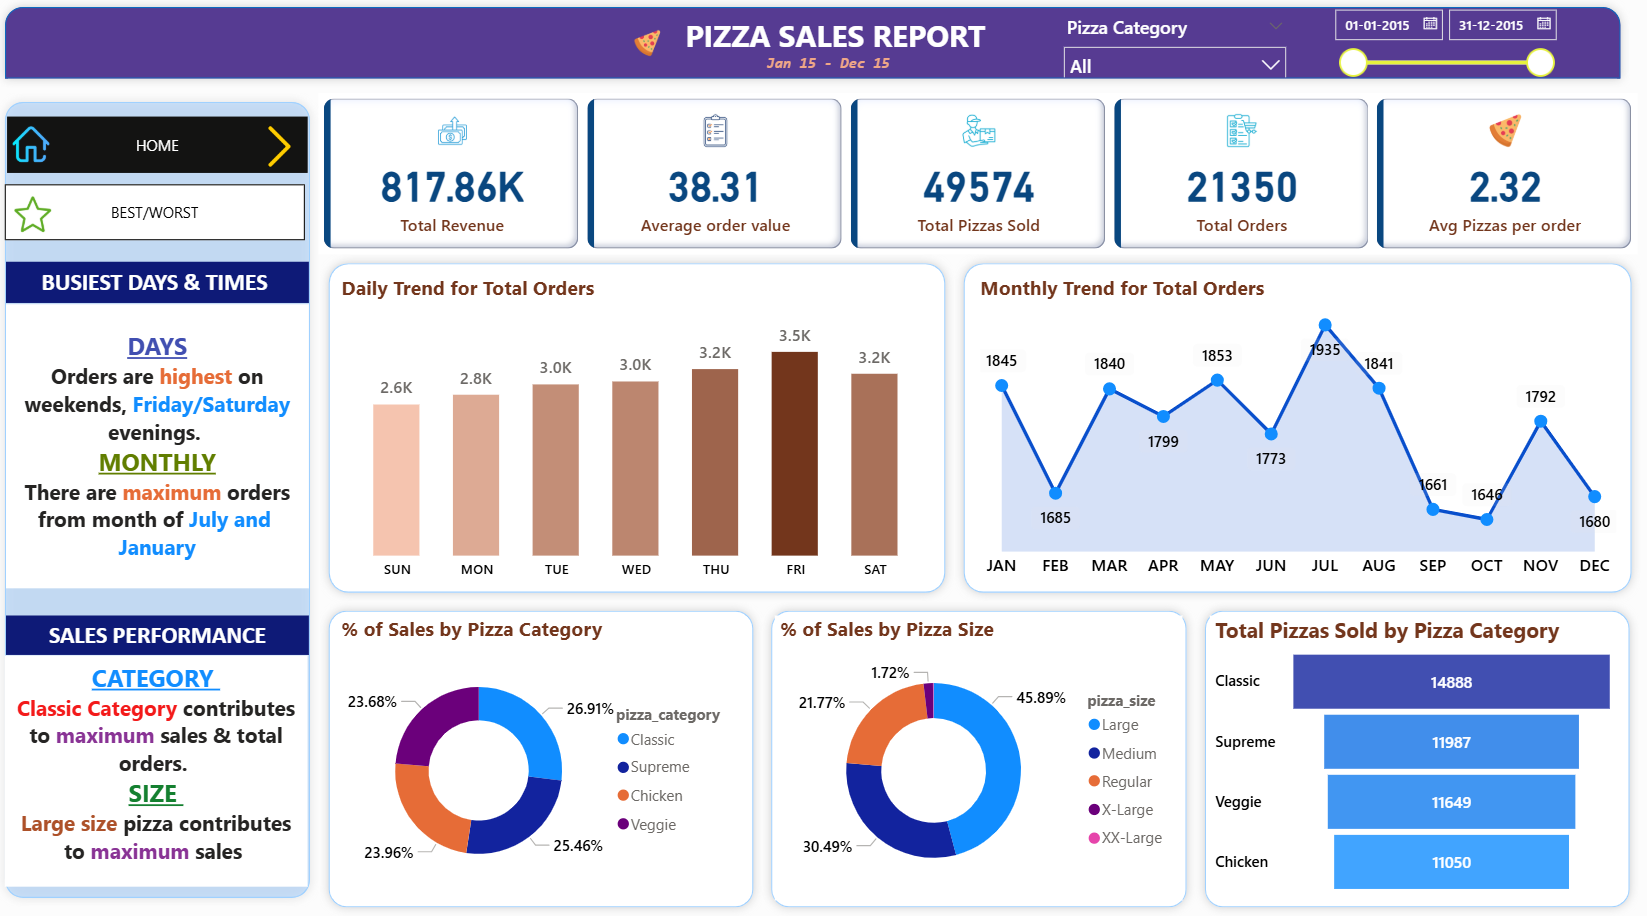

The dashboard page shown, as its layout file describes it:
{"tool":"powerbi","page":{"name":"HOME","canvas":[1500,820],"ordinal":0},"visuals":[{"type":"shape","box":[0,85,288.3,726.7],"z":0},{"type":"cardVisual","fields":{"Data":["pizza_sales.Total Revenue","pizza_sales.Average order value","pizza_sales.Total Pizzas Sold","pizza_sales.Total Orders","pizza_sales.Avg Pizzas per order"]},"box":[288.2,85.3,1177.9,144.1],"z":1000},{"type":"shape","box":[0,0,1458.3,80],"z":2000},{"type":"textbox","box":[600,10,305,53.3],"z":3000},{"type":"textbox","box":[683.3,43.3,135,36.7],"z":4000},{"type":"image","box":[564.7,17.6,33.8,45.6],"z":5000},{"type":"shape","box":[289,228.6,566.5,310.2],"z":6000},{"type":"columnChart","title":"Daily Trend for Total Orders","fields":{"Category":["pizza_sales.Order Day"],"Y":["pizza_sales.Total Orders"]},"box":[303.7,246.5,537.1,280.8],"z":7000},{"type":"shape","box":[855.5,228.6,612.2,310.2],"z":8000},{"type":"areaChart","title":"Monthly Trend for Total Orders","fields":{"Category":["pizza_sales.Order Month"],"Y":["pizza_sales.Total Orders"]},"box":[873.4,246.5,577.9,280.8],"z":9000},{"type":"shape","box":[289,538.7,395.1,280.8],"z":10000},{"type":"shape","box":[684,538.7,386.9,280.8],"z":11000},{"type":"shape","box":[1071,538.7,395.1,280.8],"z":12000},{"type":"donutChart","title":"% of Sales by Pizza Category","fields":{"Category":["pizza_sales.pizza_category"],"Y":["Sum(pizza_sales.total_price)"]},"box":[303.7,551.8,364.1,254.7],"z":13000},{"type":"donutChart","title":"% of Sales by Pizza Size","fields":{"Category":["pizza_sales.pizza_size"],"Y":["Sum(pizza_sales.total_price)"]},"box":[695.5,551.8,364.1,254.7],"z":14000},{"type":"funnel","title":"Total Pizzas Sold by Pizza Category","fields":{"Category":["pizza_sales.pizza_category"],"Y":["pizza_sales.Total Pizzas Sold"]},"box":[1084,551.8,367.3,254.7],"z":15000},{"type":"textbox","box":[8.8,235.9,270,36.5],"z":16000},{"type":"textbox","box":[9.1,273.2,270,253.6],"z":17000},{"type":"textbox","box":[8.8,551.8,270.6,35.3],"z":18000},{"type":"textbox","box":[8.3,586.7,270,206.7],"z":19000},{"type":"slicer","fields":{"Values":["pizza_sales.pizza_category"]},"box":[943.3,10,218.9,61.1],"z":20000},{"type":"slicer","fields":{"Values":["pizza_sales.order_date"]},"box":[1183.3,0,216.7,73.3],"z":21000},{"type":"pageNavigator","box":[9.5,106.3,268.4,50.4],"z":22000},{"type":"pageNavigator","box":[8.2,166.2,268.4,50.4],"z":23000},{"type":"image","box":[230.3,109,46.3,46.3],"z":24000},{"type":"image","box":[9.5,109,42.2,42.2],"z":25000},{"type":"image","box":[9.5,171.7,45,42.2],"z":26000}]}

Visuals, with their boxes in screenshot pixels (x1, y1, x2, y2), scaled from the page's 1500x820 canvas onto the 1647x916 screenshot:
shape: <region>0, 95, 317, 907</region>
cardVisual - pizza_sales.Total Revenue x pizza_sales.Average order value: <region>316, 95, 1610, 256</region>
shape: <region>0, 0, 1601, 89</region>
textbox: <region>659, 11, 994, 71</region>
textbox: <region>750, 48, 898, 89</region>
image: <region>620, 20, 657, 71</region>
shape: <region>317, 255, 939, 602</region>
"Daily Trend for Total Orders" columnChart: <region>333, 275, 923, 589</region>
shape: <region>939, 255, 1612, 602</region>
"Monthly Trend for Total Orders" areaChart: <region>959, 275, 1594, 589</region>
shape: <region>317, 602, 751, 915</region>
shape: <region>751, 602, 1176, 915</region>
shape: <region>1176, 602, 1610, 915</region>
"% of Sales by Pizza Category" donutChart: <region>333, 616, 733, 901</region>
"% of Sales by Pizza Size" donutChart: <region>764, 616, 1163, 901</region>
"Total Pizzas Sold by Pizza Category" funnel: <region>1190, 616, 1594, 901</region>
textbox: <region>10, 264, 306, 304</region>
textbox: <region>10, 305, 306, 588</region>
textbox: <region>10, 616, 307, 656</region>
textbox: <region>9, 655, 306, 886</region>
slicer - pizza_sales.pizza_category: <region>1036, 11, 1276, 79</region>
slicer - pizza_sales.order_date: <region>1299, 0, 1537, 82</region>
pageNavigator: <region>10, 119, 305, 175</region>
pageNavigator: <region>9, 186, 304, 242</region>
image: <region>253, 122, 304, 173</region>
image: <region>10, 122, 57, 169</region>
image: <region>10, 192, 60, 239</region>
